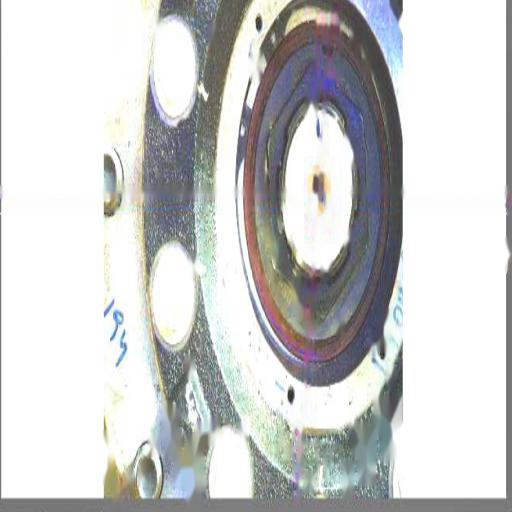center: (312, 171, 324, 203)
notch: (317, 38, 336, 62)
